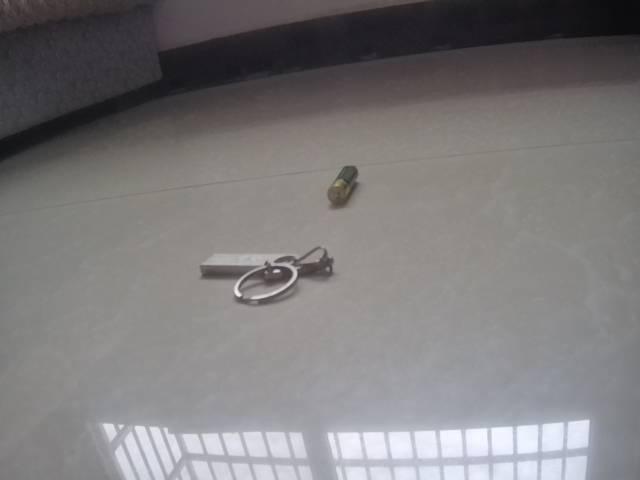U-disk: (198, 242, 343, 313)
battery: (323, 164, 364, 210)
